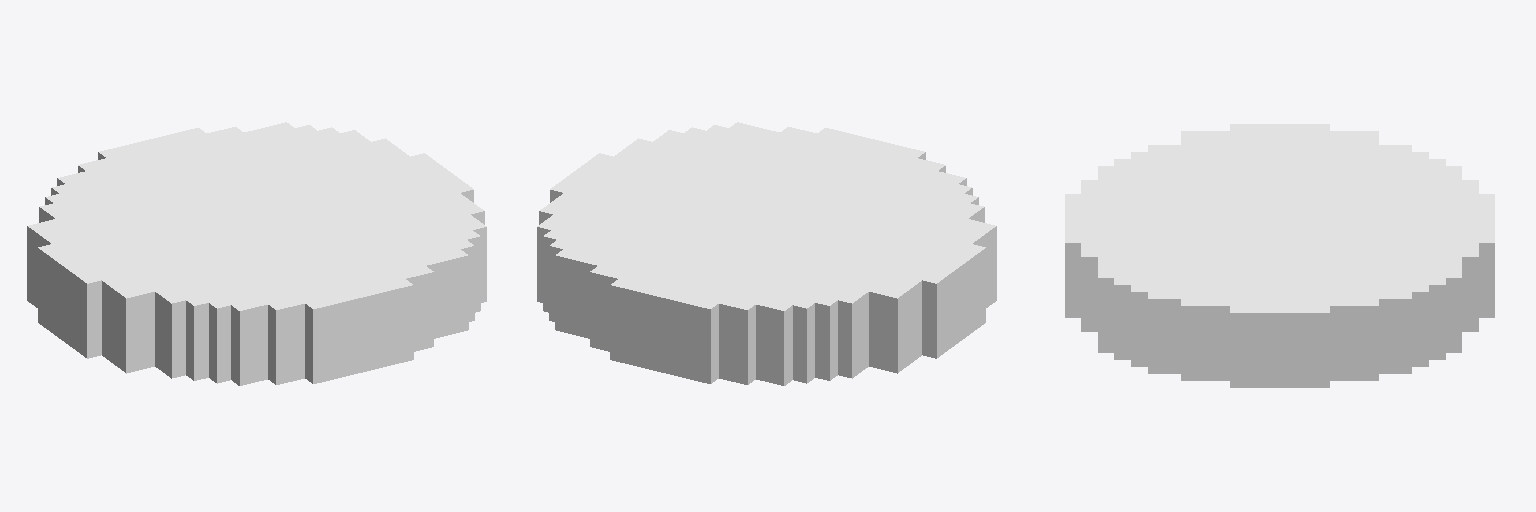
Rendered from water_in_pot.obj.
3 renders of one model, left to right at view 1: azimuth 30°, elevation 25°; view 2: azimuth 150°, elevation 25°; view 3: azimuth 270°, elevation 25°, orthographic.
Visible parts, largest first — view 1: object 1; view 2: object 1; view 3: object 1.
Boxes of the visible parts, x1,y1,x2,y2 form: object 1: [27, 122, 486, 385]; object 1: [537, 122, 996, 385]; object 1: [1065, 124, 1494, 387].
Bounding box in the file's own units: 2.7 × 0.5 × 2.6.